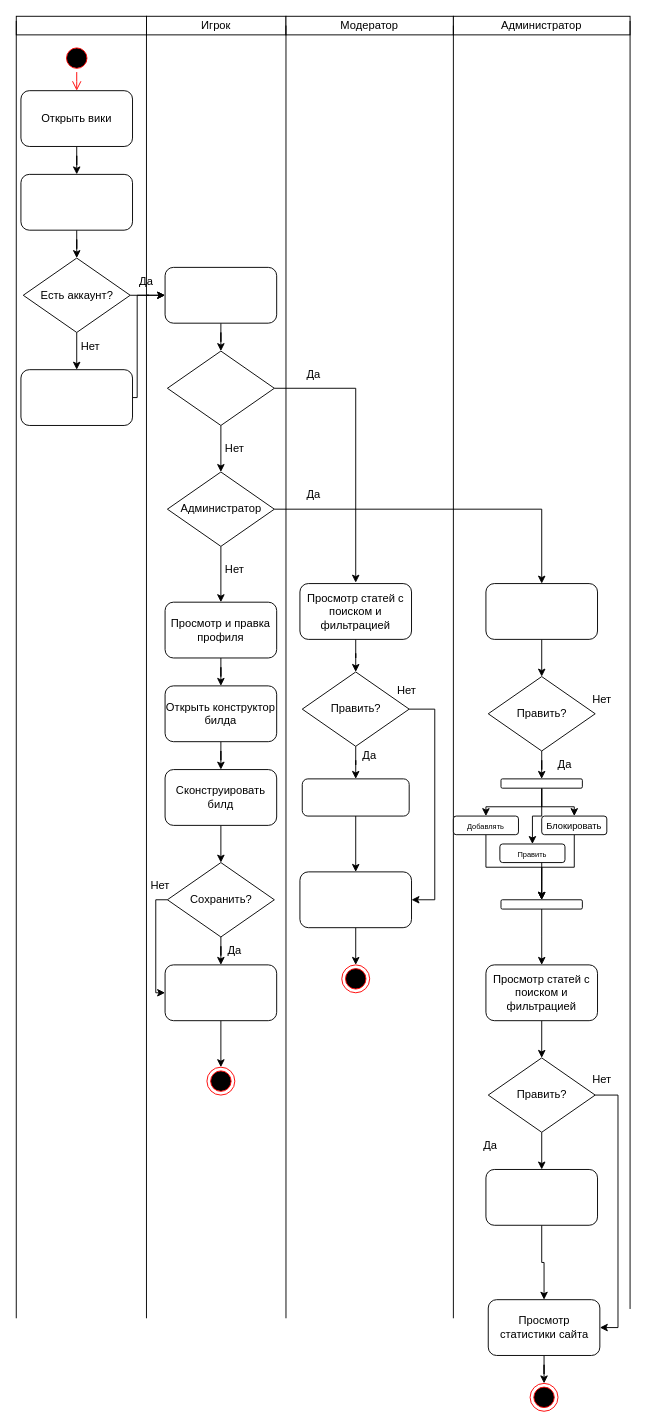
Image size: 647x1428. Some labels were removed from this diagram. The shapes that lost their labels are listed below. From the top down, each one's centre as x and y in pixels, then its label:
At (80,25): "Гость".
At (76,201): "Просмотр категорий и статей".
At (220,294): "Авторизация".
At (76,397): "Регистрация".
At (220,387): "Модератор?".
At (541,611): "Просмотр списка сотрудников с поиском и фильтрацией".
At (355,797): "Править статью".
At (355,899): "Просмотр статистики статей".
At (220,992): "Сохранить билд на компьютер".
At (541,1197): "Добавлять, удалять, править статьи".
